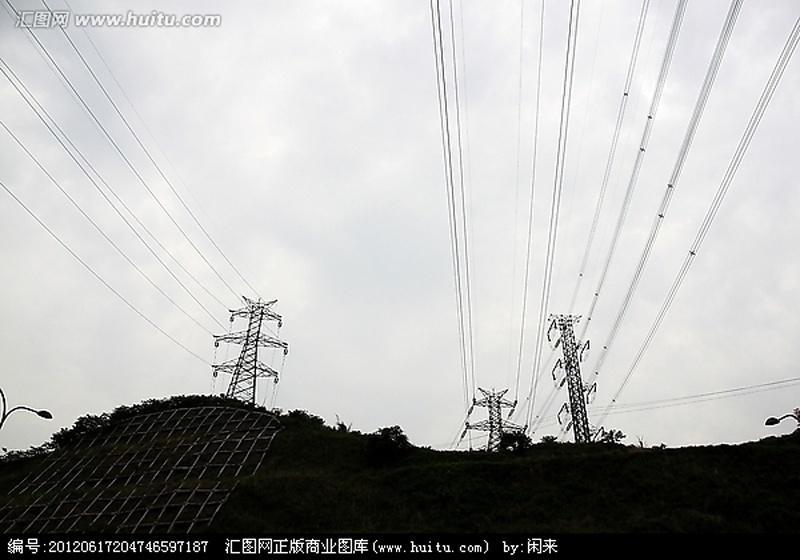power_tower: (211, 296, 290, 416), (544, 309, 599, 440), (458, 388, 531, 454)
